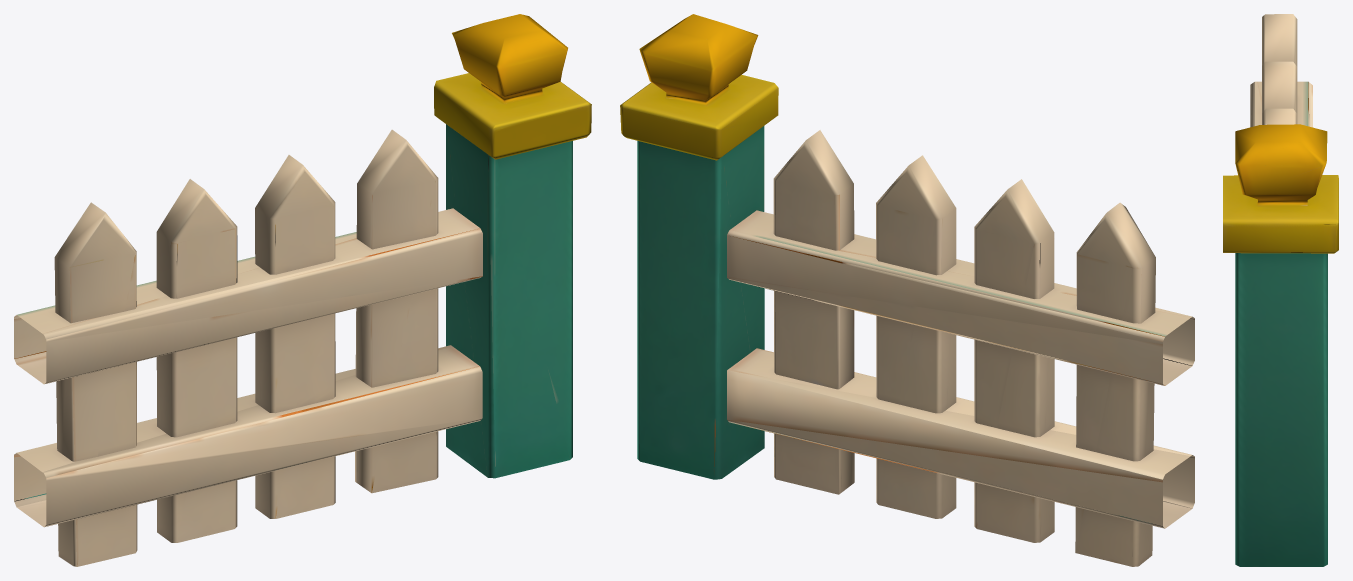
The model's file is fence_picket_open.glb.
The picture shows the model from 3 angles, left to right: view 1: azimuth 30°, elevation 25°; view 2: azimuth 150°, elevation 25°; view 3: azimuth 270°, elevation 25°; orthographic projection. The views are drawn at different scales.
Visible parts, largest first — view 1: fence_picket; view 2: fence_picket; view 3: fence_picket.
Part boxes in pixels (<box>): fence_picket: <box>14,14,591,566</box>; fence_picket: <box>620,14,1194,566</box>; fence_picket: <box>1223,14,1338,566</box>.
Size of the model in its own units: 0.5037 by 0.3857 by 0.0977.
Materials: 1 (1 with a texture image).
